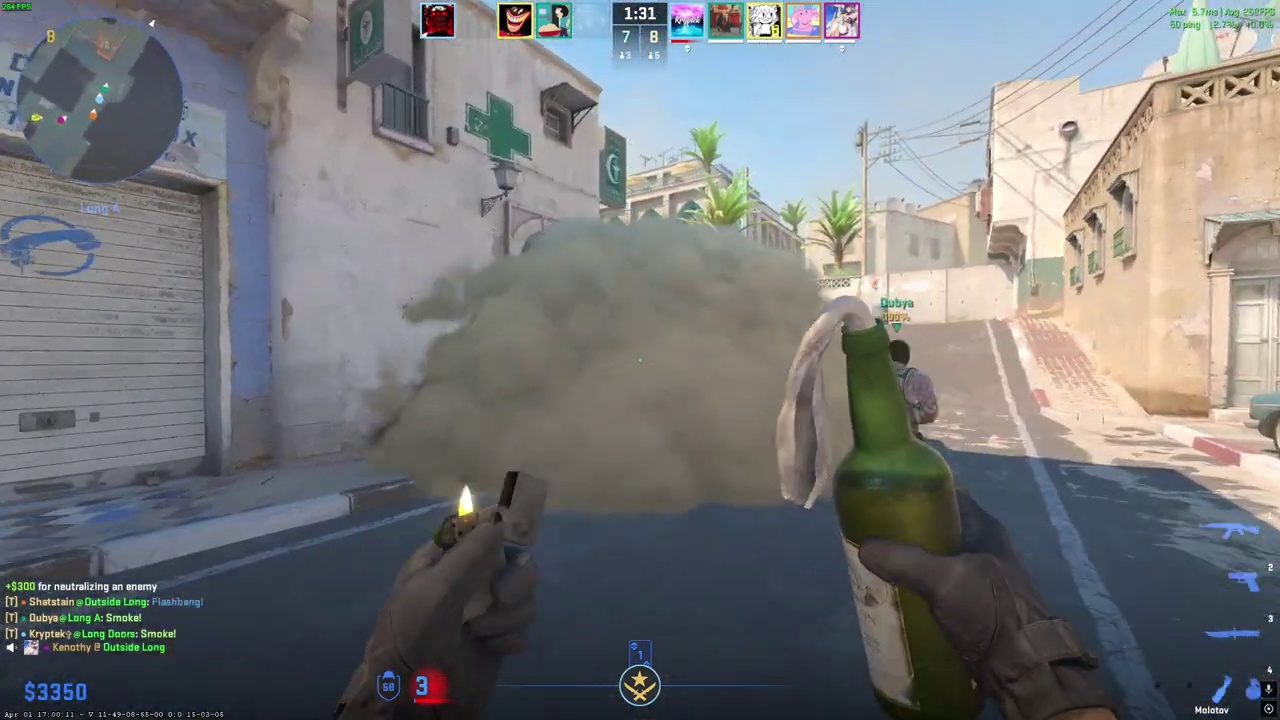Terrorist: (887, 340, 936, 443)
